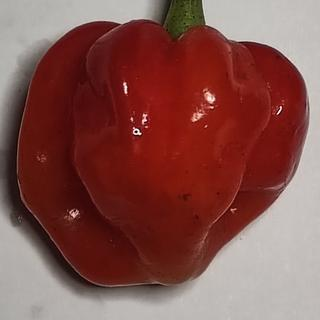Grade-B: (9, 17, 314, 293)
